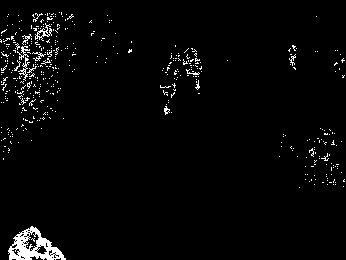person: (161, 65, 178, 114)
